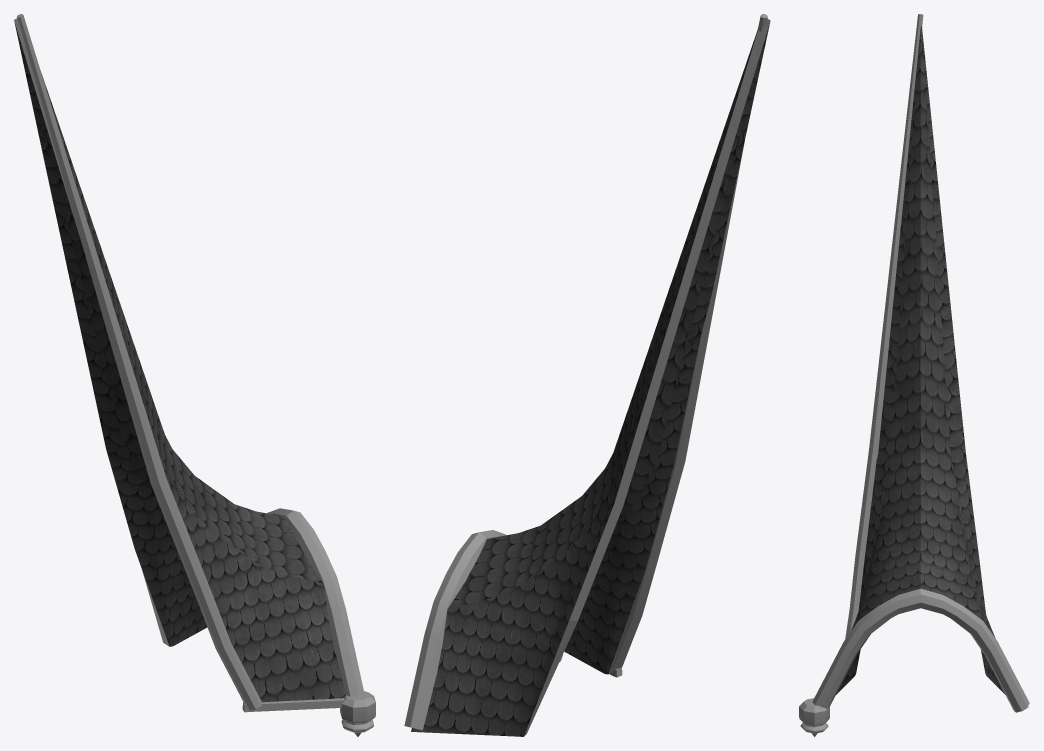
File: SM_OctagonRoof_A_001.FBX
3 renders of one model, left to right at view 1: azimuth 30°, elevation 25°; view 2: azimuth 150°, elevation 25°; view 3: azimuth 270°, elevation 25°, orthographic. The views are drawn at different scales.
Parts seen in each view (by area): view 1: SM_OctagonRoof_A_001; view 2: SM_OctagonRoof_A_001; view 3: SM_OctagonRoof_A_001.
Part boxes in pixels (bbox=[...]): SM_OctagonRoof_A_001: bbox=[14, 14, 375, 736]; SM_OctagonRoof_A_001: bbox=[404, 14, 770, 736]; SM_OctagonRoof_A_001: bbox=[799, 14, 1029, 736].
Bounding box in the file's own units: 716 × 1716 × 586.
Materials: 2 (1 with a texture image).
